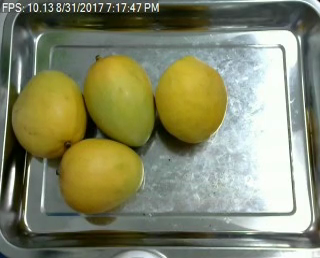Mango: (83, 54, 156, 146), (11, 70, 86, 158), (60, 139, 145, 212), (155, 57, 227, 141)
